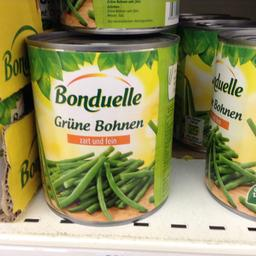beans: (24, 30, 178, 224), (196, 28, 254, 220)
